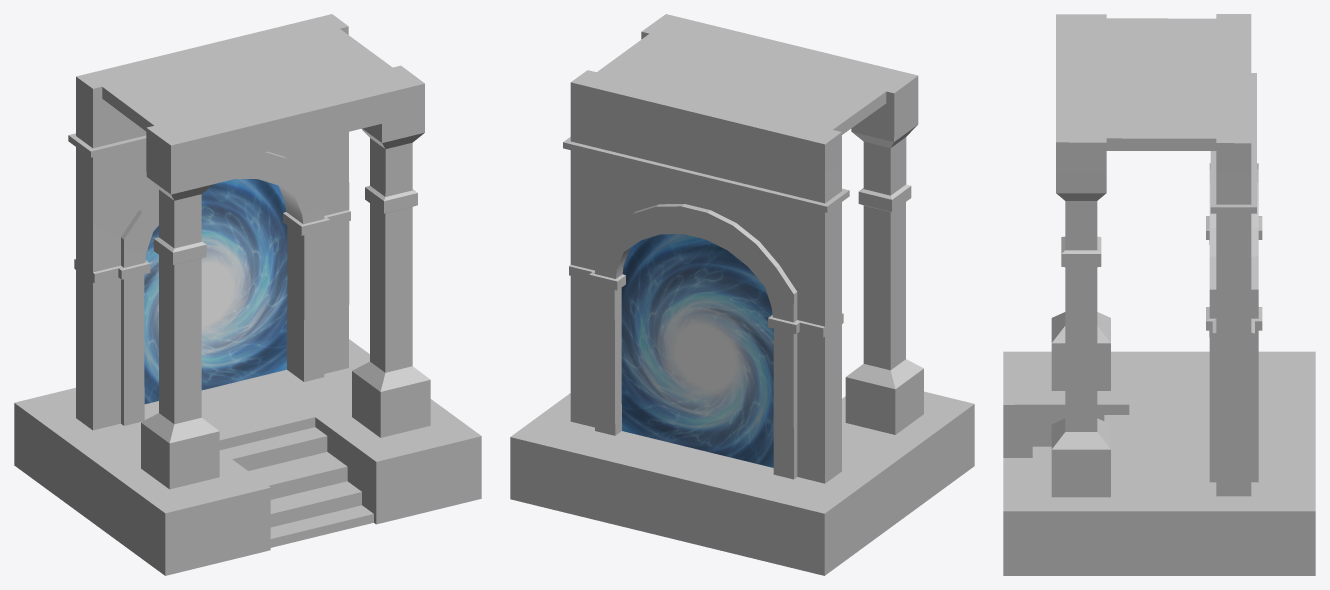
The model's file is portal2.fbx.
3 views of the same model, side by side, from view 1: azimuth 30°, elevation 25°; view 2: azimuth 150°, elevation 25°; view 3: azimuth 270°, elevation 25° (orthographic). The views are drawn at different scales.
Parts seen in each view (by area): view 1: Box001, pDisc1; view 2: Box001, pDisc1; view 3: Box001.
Boxes of the visible parts, x1=… form: Box001: x1=14, y1=14, x2=481, y2=575; pDisc1: x1=144, y1=179, x2=287, y2=404; Box001: x1=510, y1=14, x2=974, y2=575; pDisc1: x1=621, y1=234, x2=773, y2=467; Box001: x1=1003, y1=14, x2=1315, y2=575.
Size of the model in its own units: 32.58 by 39.76 by 26.95.
